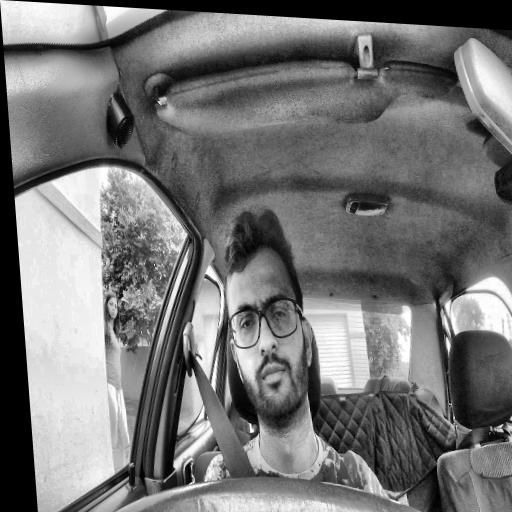awake: (217, 204, 320, 431)
